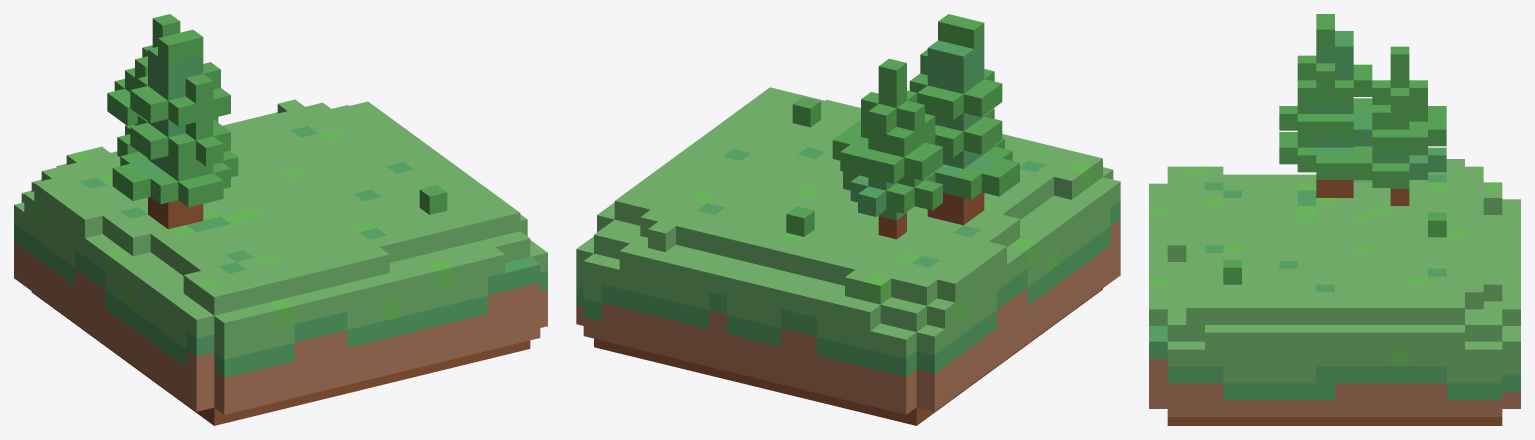
The model's file is grass2.glb.
3 views of the same model, side by side, from view 1: azimuth 30°, elevation 25°; view 2: azimuth 150°, elevation 25°; view 3: azimuth 270°, elevation 25° (orthographic). The views are drawn at different scales.
Parts seen in each view (by area): view 1: grass2.vox; view 2: grass2.vox; view 3: grass2.vox.
Boxes of the visible parts, box(x1,y1,x2,y2) form: grass2.vox: box(14, 14, 547, 425); grass2.vox: box(576, 14, 1120, 425); grass2.vox: box(1149, 14, 1520, 425).
Size of the model in its own units: 2 by 1.7 by 2.
1 material, 1 textured.
